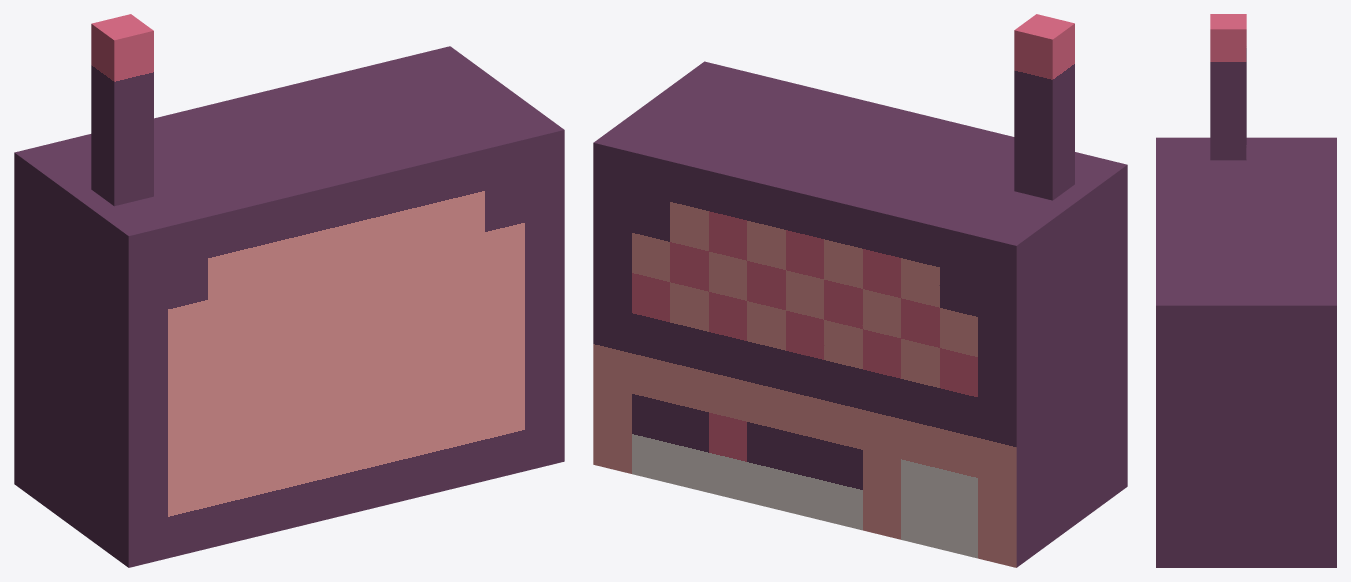
Rendered from radio.gltf.
The picture shows the model from 3 angles, left to right: view 1: azimuth 30°, elevation 25°; view 2: azimuth 150°, elevation 25°; view 3: azimuth 270°, elevation 25°; orthographic projection. The views are drawn at different scales.
Visible parts, largest first — view 1: cuboid; view 2: cuboid; view 3: cuboid.
Boxes of the visible parts, bbox=[...] form: cuboid: bbox=[14, 14, 564, 567]; cuboid: bbox=[593, 14, 1127, 567]; cuboid: bbox=[1156, 14, 1336, 567].
Bounding box in the file's own units: 0.6875 × 0.75 × 0.3125.
1 material, 1 textured.
